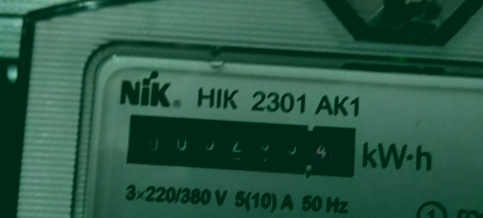0: (144, 126, 161, 152), (173, 125, 188, 150)
2: (228, 126, 243, 152)
3: (256, 126, 271, 151)
4: (313, 132, 329, 159)
5: (283, 128, 299, 156), (200, 125, 216, 152)
screen: (116, 103, 367, 184)
